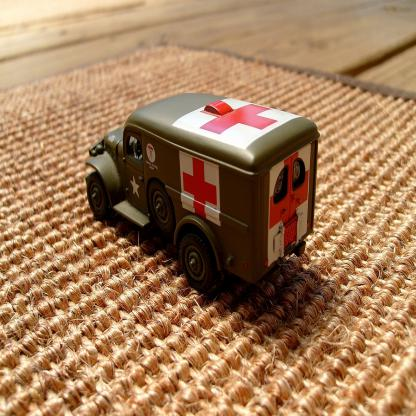Ambulance: (83, 92, 320, 292)
